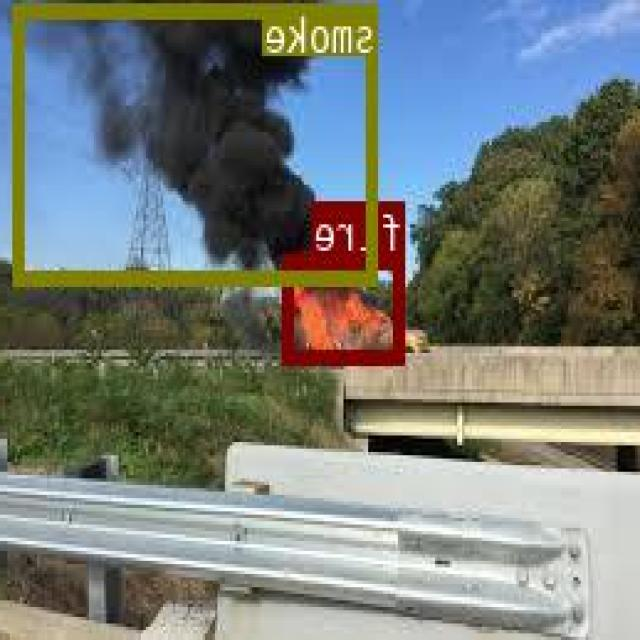fire: (284, 252, 408, 360)
smoke: (16, 3, 379, 282)
